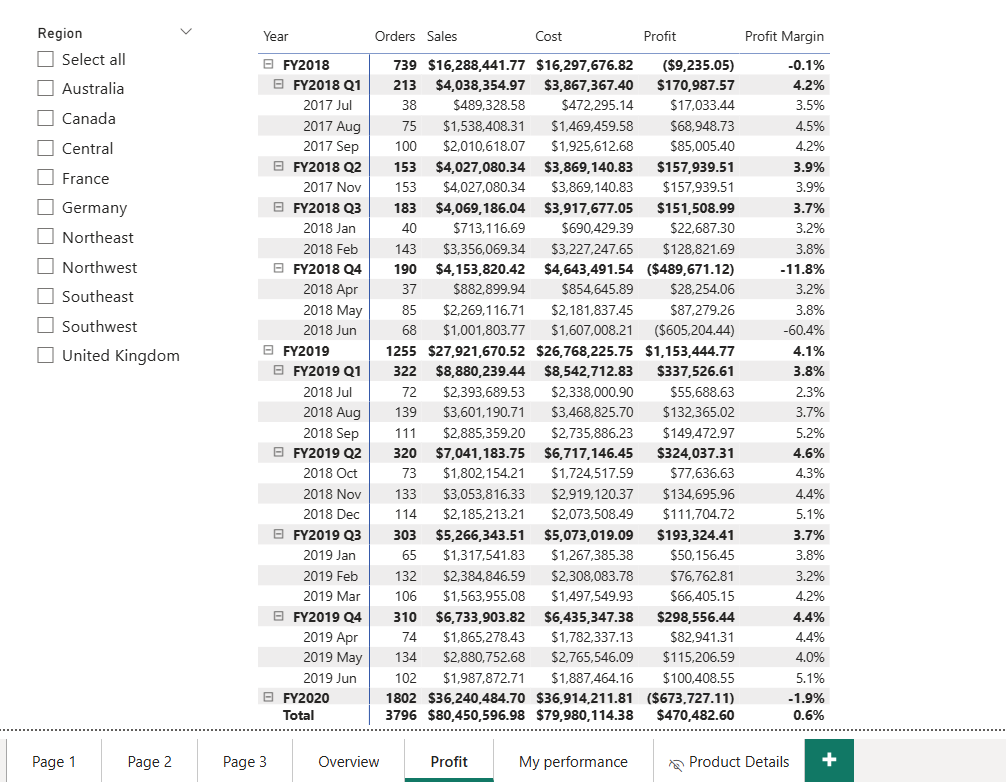

The page's visual inventory and layout, read from the dashboard file:
{"tool":"powerbi","page":{"name":"Profit","canvas":[1280,720],"ordinal":4},"visuals":[{"type":"slicer","fields":{"Values":["Region.Region"]},"box":[25.6,25.6,177.4,358],"z":0},{"type":"pivotTable","fields":{"Rows":["Date.Fiscal.Year","Date.Fiscal.Quarter","Date.Fiscal.Month"],"Values":["Sales.Orders","Sum(Sales.Sales)","Sum(Sales.Cost)","Sales.Profit","Sales.Profit Margin"]},"box":[249.5,25.2,972.9,695.1],"z":1000}]}

Visuals, with their boxes on the page's 1280x720 design canvas (x1, y1, x2, y2). These are canvas units, not pixel positions in the 1006x782 screenshot, which may show the page scaled, cropped or inside an application window:
slicer - Region.Region: [26,26,203,384]
pivotTable - Date.Fiscal.Year x Date.Fiscal.Quarter: [250,25,1222,720]
